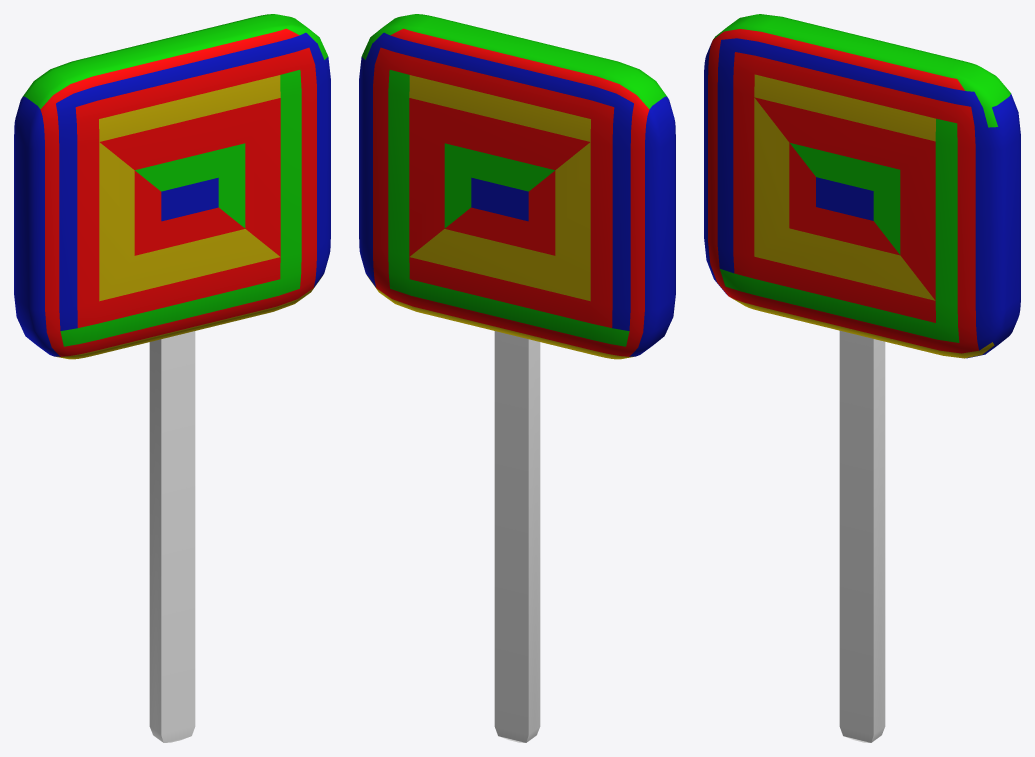
The model's file is BIG LOLIPOP.FBX.
3 views of the same model, side by side, from view 1: azimuth 30°, elevation 25°; view 2: azimuth 150°, elevation 25°; view 3: azimuth 330°, elevation 25° (orthographic).
Parts seen in each view (by area): view 1: Box003; view 2: Box003; view 3: Box003.
Part boxes in pixels (<box>): Box003: <box>14,14,330,742</box>; Box003: <box>359,14,675,742</box>; Box003: <box>704,14,1020,742</box>.
Size of the model in its own units: 136 by 301 by 27.52.
